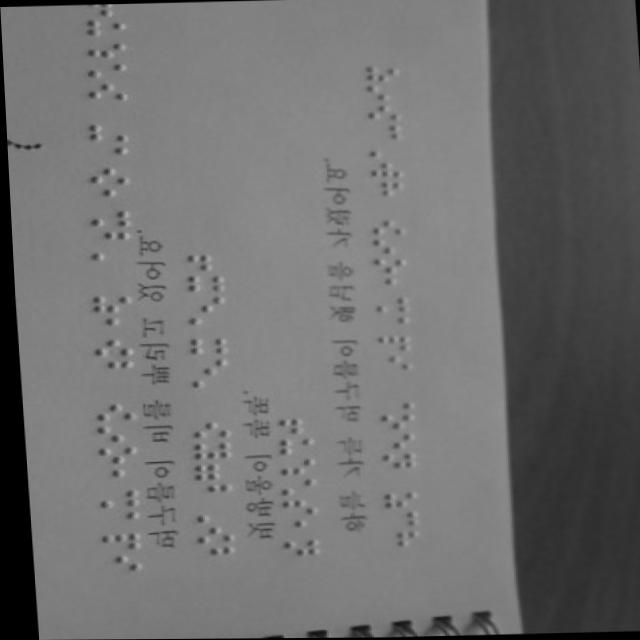braiile: (84, 228, 131, 270), (184, 357, 228, 389), (182, 295, 225, 325), (82, 59, 129, 81), (88, 337, 132, 359), (184, 334, 227, 356), (85, 122, 130, 143), (83, 81, 130, 101), (271, 476, 314, 497), (89, 400, 132, 421), (86, 293, 131, 313), (86, 165, 130, 185), (85, 17, 129, 37), (271, 436, 312, 457), (272, 499, 317, 518), (188, 504, 230, 524), (94, 553, 136, 573), (91, 423, 133, 443), (90, 445, 134, 464), (89, 358, 133, 377), (187, 440, 228, 460), (93, 531, 136, 550), (93, 488, 136, 507), (87, 315, 132, 333), (84, 145, 129, 163), (271, 416, 311, 436), (89, 509, 136, 526), (83, 41, 130, 58), (273, 457, 314, 476), (188, 525, 229, 544), (187, 462, 228, 481), (274, 538, 317, 556), (86, 209, 129, 227), (187, 420, 227, 439), (182, 252, 224, 270), (369, 314, 408, 333), (364, 103, 403, 122), (361, 64, 400, 83), (189, 483, 228, 502), (92, 467, 134, 484), (371, 333, 408, 352), (368, 256, 405, 275), (366, 179, 403, 198), (363, 83, 400, 102), (379, 529, 416, 548), (183, 273, 224, 290), (189, 545, 232, 561), (88, 186, 131, 202), (377, 490, 415, 508), (368, 277, 407, 294), (377, 510, 416, 527), (272, 517, 316, 532), (367, 161, 403, 179), (370, 296, 408, 313), (374, 451, 411, 468), (367, 219, 404, 236), (374, 432, 411, 449), (374, 412, 411, 429), (373, 355, 409, 372), (368, 238, 404, 255), (365, 123, 401, 140), (87, 2, 129, 16), (373, 400, 410, 413), (366, 147, 402, 160)
